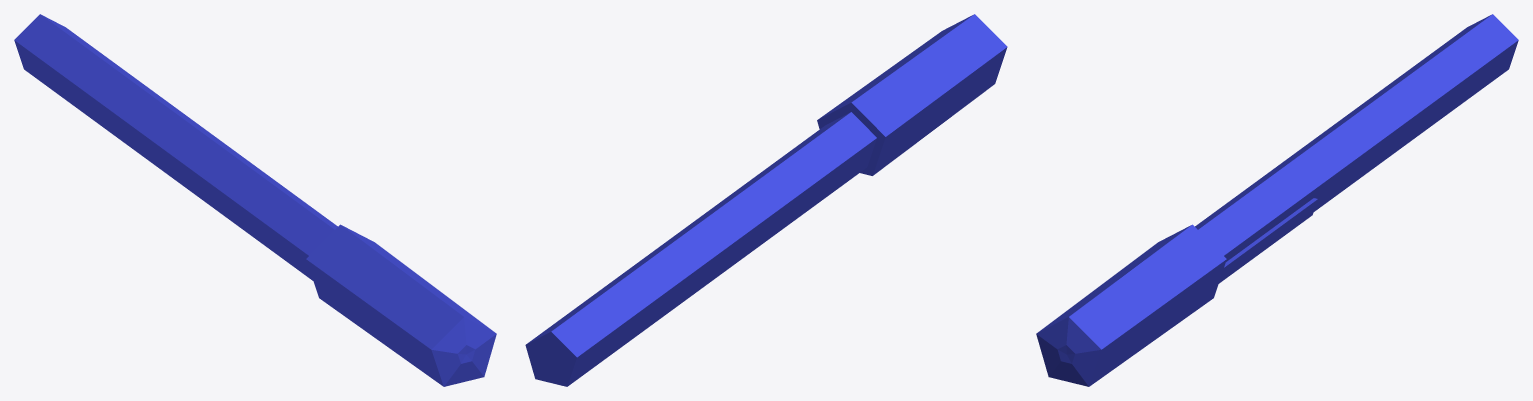
Rendered from Pen.fbx.
3 views of the same model, side by side, from view 1: azimuth 30°, elevation 25°; view 2: azimuth 150°, elevation 25°; view 3: azimuth 330°, elevation 25° (orthographic).
Parts seen in each view (by area): view 1: Pen; view 2: Pen; view 3: Pen.
Part boxes in pixels (left/top/right/bottom): Pen: left=14, top=14, right=496, bottom=386; Pen: left=525, top=14, right=1007, bottom=386; Pen: left=1036, top=14, right=1518, bottom=386.
Size of the model in its own units: 32.19 by 30.61 by 345.
